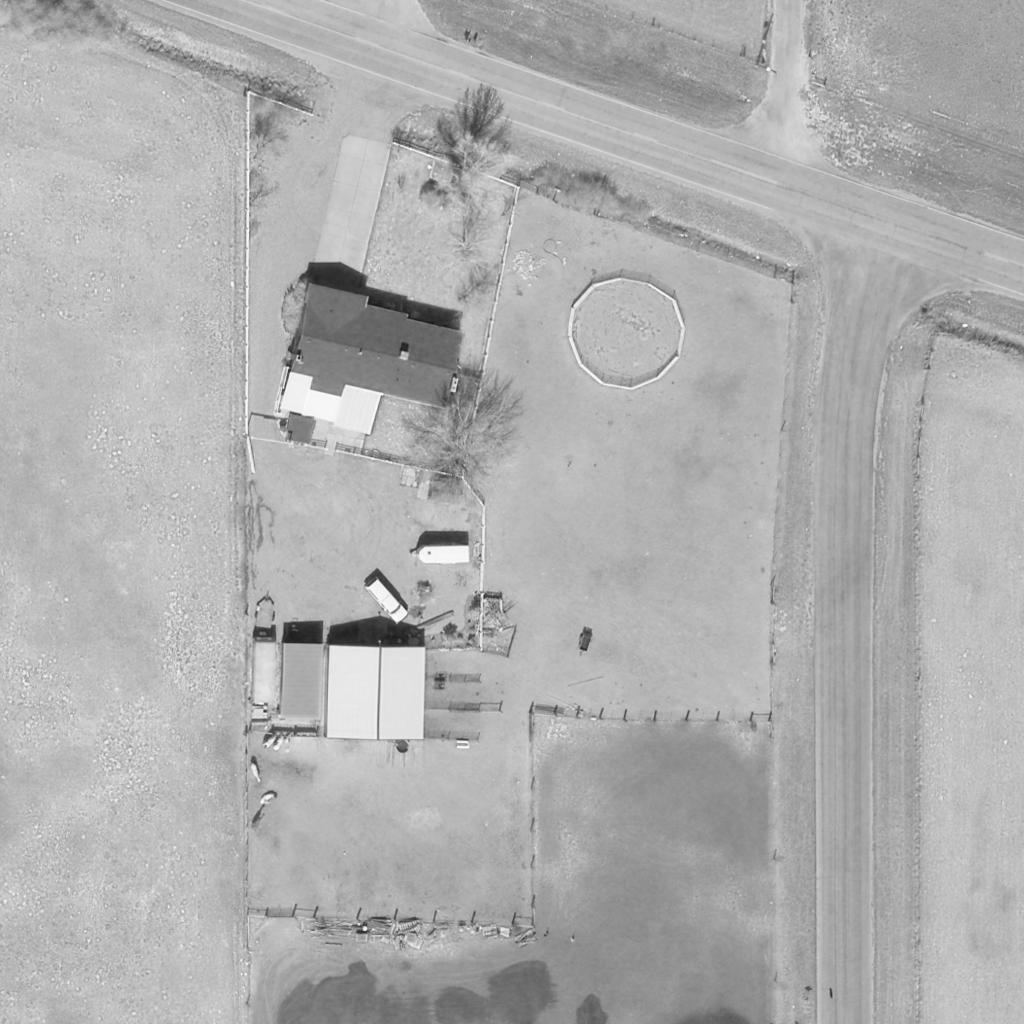vehicle: (362, 578, 410, 626), (414, 544, 474, 566)
